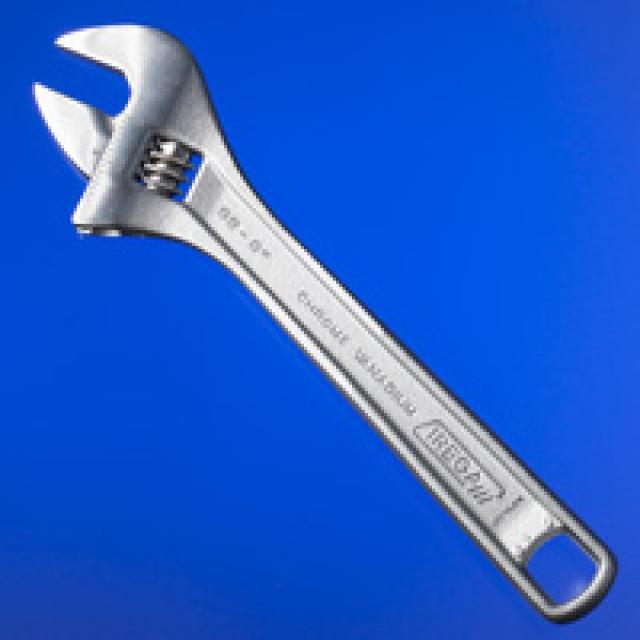wrench: (30, 22, 592, 609)
